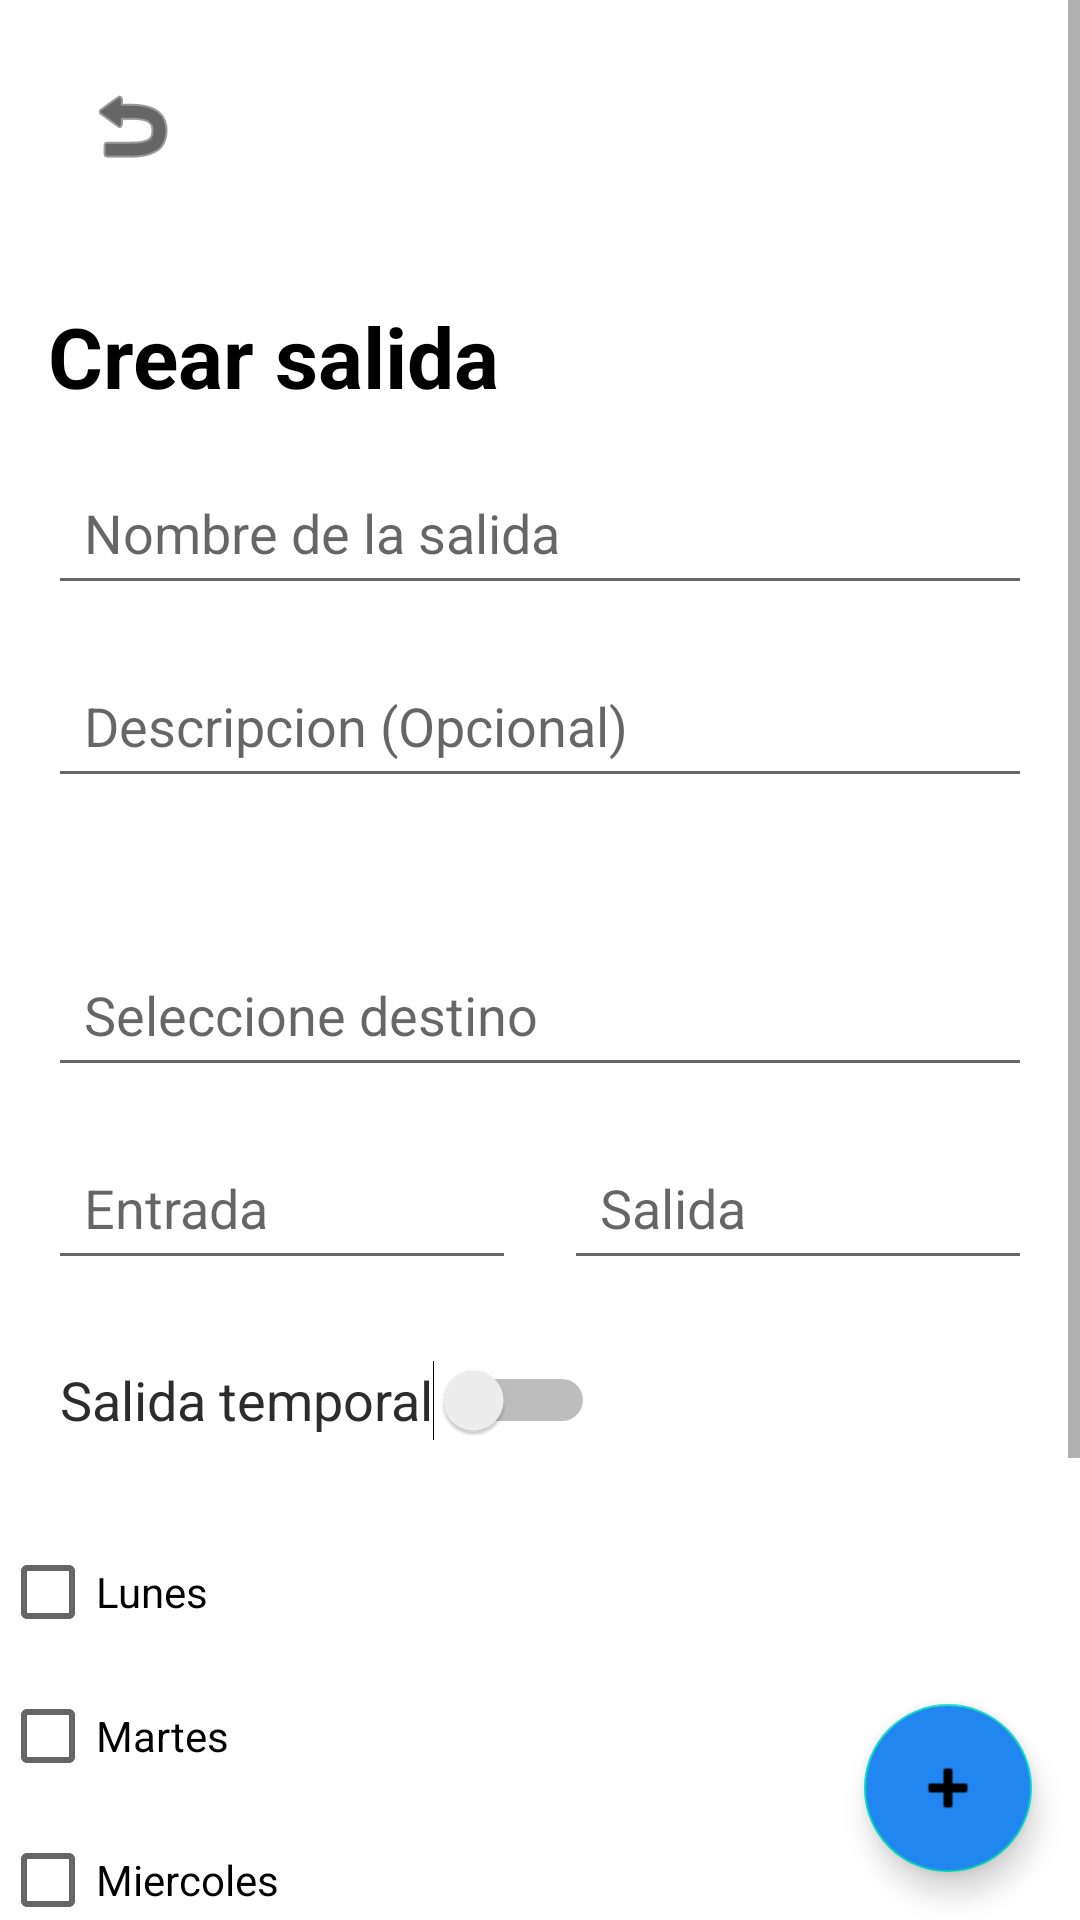

Point at icon controls on the screen. Image size 1080px x 1920px, points as (x,y).
Cancelar: (133,126)
